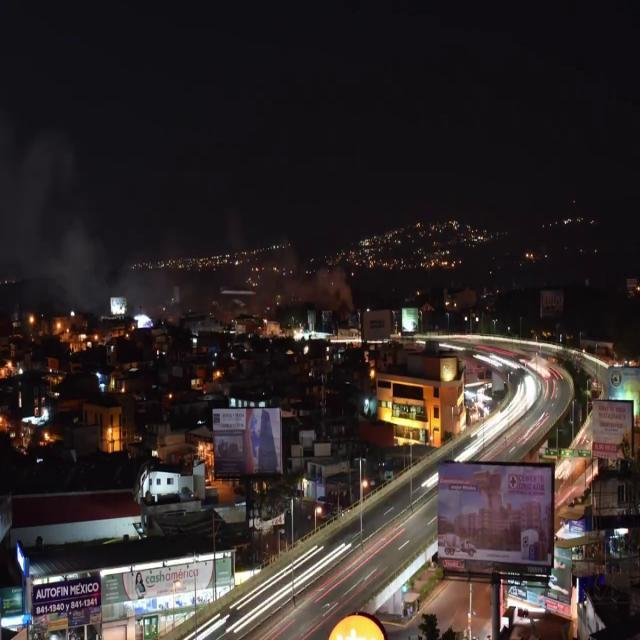Fire: (0, 120, 110, 310), (125, 260, 173, 316)
Smoke: (248, 239, 359, 322)
